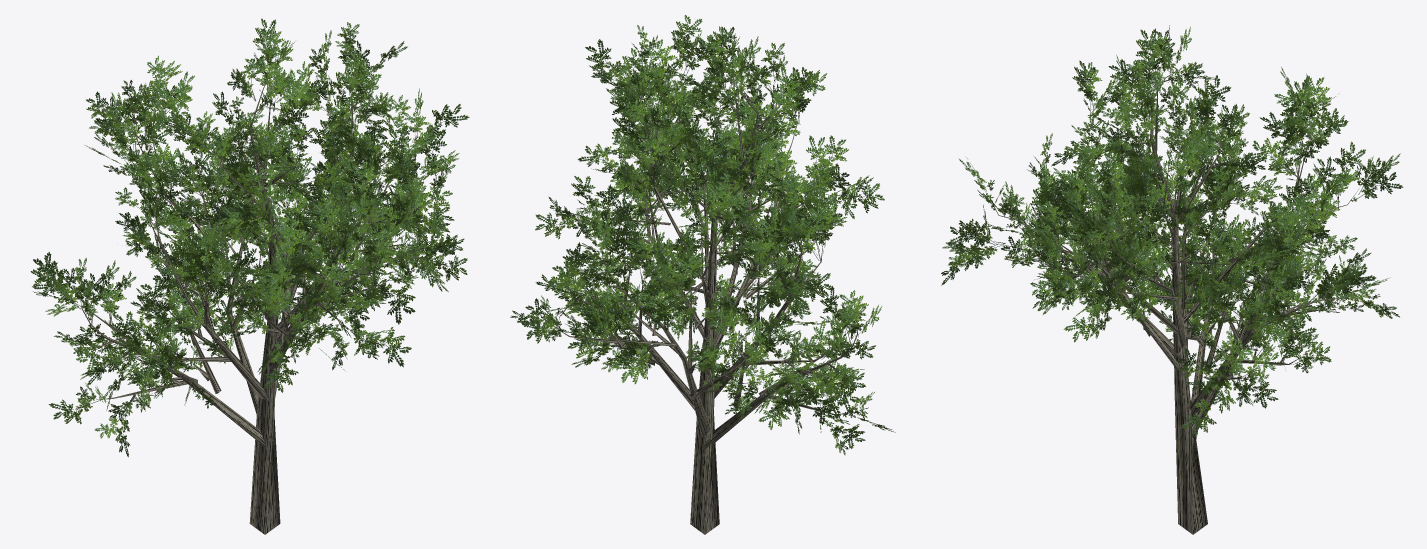
The model's file is tree_LOD2.glb.
3 views of the same model, side by side, from view 1: azimuth 30°, elevation 25°; view 2: azimuth 150°, elevation 25°; view 3: azimuth 270°, elevation 25° (orthographic). The views are drawn at different scales.
Parts seen in each view (by area): view 1: Leaves_LOD2, Branches_LOD2; view 2: Leaves_LOD2, Branches_LOD2; view 3: Leaves_LOD2, Branches_LOD2.
Part boxes in pixels (box(x1,y1,x2,y2)): Leaves_LOD2: box(30, 18, 469, 457); Branches_LOD2: box(74, 68, 435, 534); Leaves_LOD2: box(510, 15, 895, 455); Branches_LOD2: box(556, 62, 857, 534); Leaves_LOD2: box(941, 25, 1403, 436); Branches_LOD2: box(982, 67, 1359, 534).
Bounding box in the file's own units: 72.62 × 97.02 × 83.57.
Materials: 2 (2 with a texture image).
